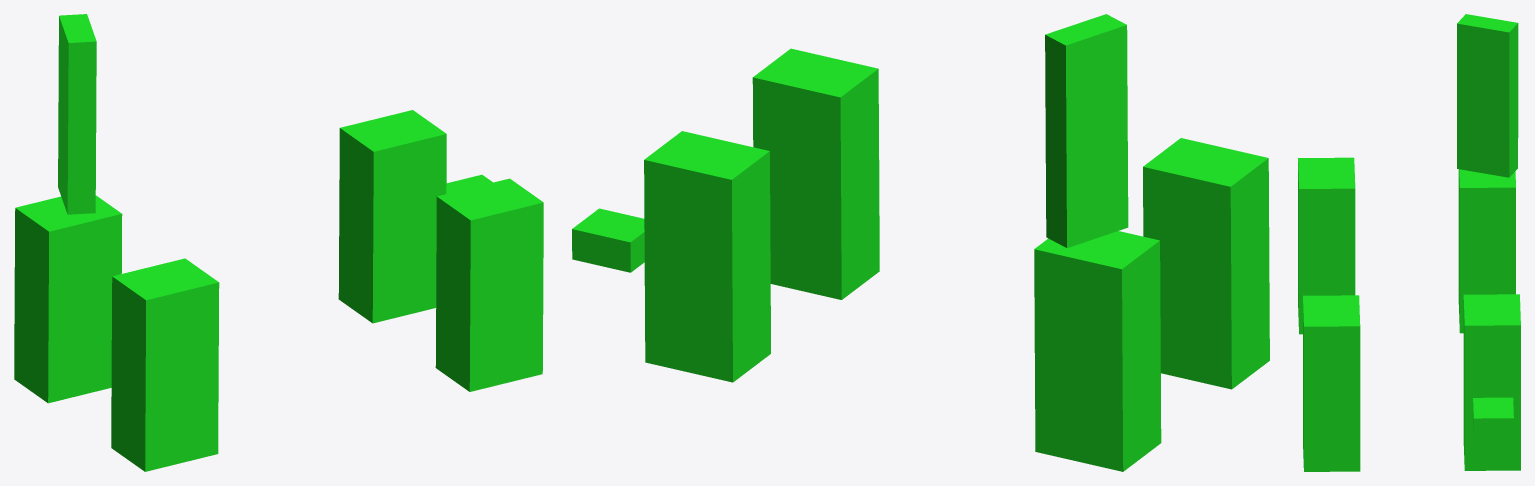
Rendered from Gate_2.glb.
The picture shows the model from 3 angles, left to right: view 1: azimuth 30°, elevation 25°; view 2: azimuth 150°, elevation 25°; view 3: azimuth 270°, elevation 25°; orthographic projection. The views are drawn at different scales.
Parts seen in each view (by area): view 1: obj_1, obj_3, obj_2, obj_0, obj_4; view 2: obj_2, obj_0, obj_1, obj_3, obj_4, obj_5; view 3: obj_3, obj_4, obj_2, obj_1, obj_0, obj_5.
Part boxes in pixels (x1,y1,x2,y2): obj_1: [111, 258, 219, 471]; obj_3: [435, 178, 543, 391]; obj_2: [338, 110, 446, 323]; obj_0: [14, 195, 122, 403]; obj_4: [58, 14, 96, 214]; obj_2: [644, 131, 770, 382]; obj_0: [1034, 231, 1161, 471]; obj_1: [1143, 138, 1269, 389]; obj_3: [752, 48, 879, 299]; obj_4: [1045, 14, 1128, 247]; obj_5: [572, 208, 644, 272]; obj_3: [1303, 295, 1360, 471]; obj_4: [1457, 14, 1518, 177]; obj_2: [1463, 294, 1520, 470]; obj_1: [1298, 157, 1355, 334]; obj_0: [1458, 169, 1515, 333]; obj_5: [1473, 397, 1513, 440].
Size of the model in its own units: 57.15 by 41.29 by 27.74.
